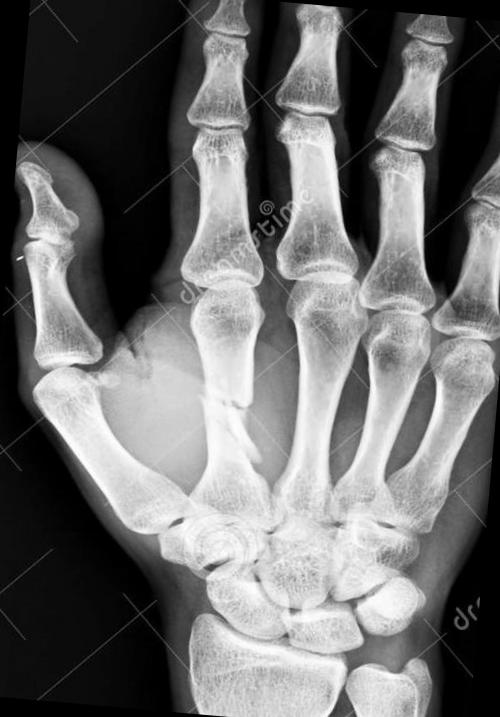fracture: (199, 389, 257, 418)
